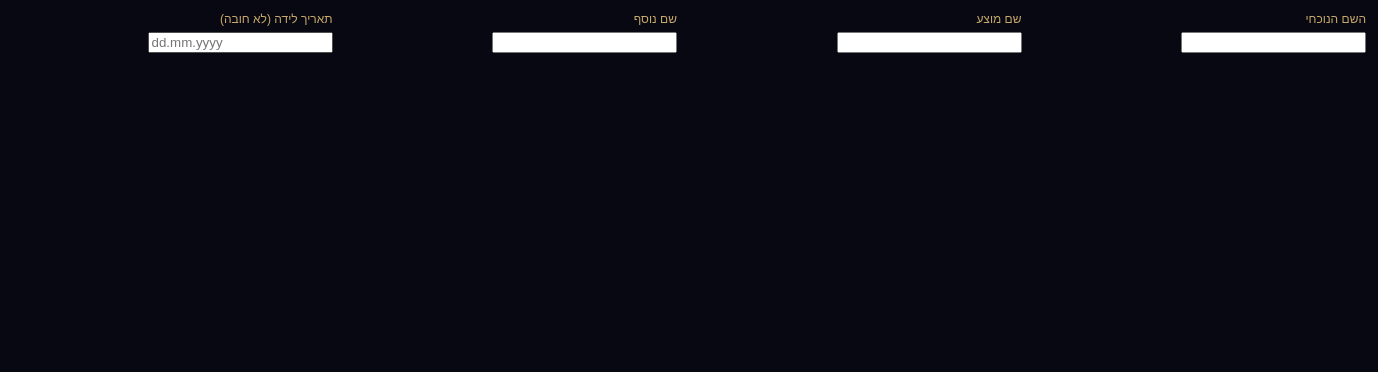
it: name comparison › shows each spelling's numbers side by side and marks what differs from the first
The image size is (1378, 372).
Type "שני כהן" into the field labelled "השם הנוכחי". click: [1274, 42]
box: top-left (1181, 32), bottom-right (1366, 53)
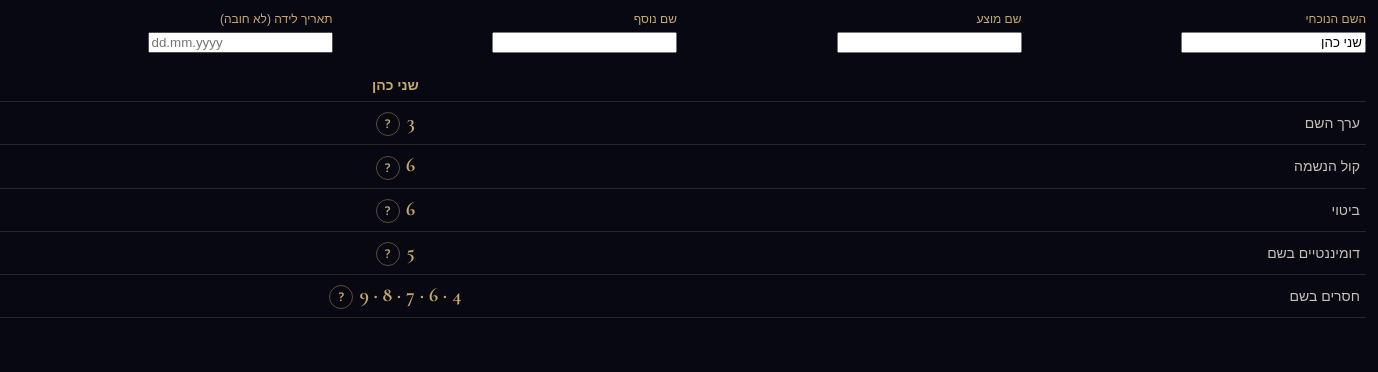
Type "שני כהן אזולאי" into the field labelled "שם מוצע". click: [929, 42]
box: top-left (836, 32), bottom-right (1022, 53)
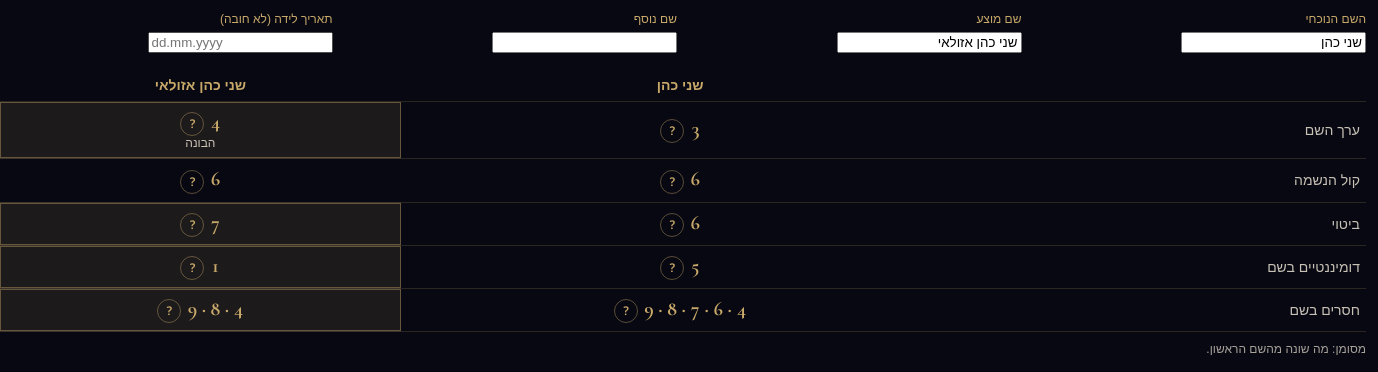
expect the text with class "calc-value" reads "3": met, box top-left (690, 117), bottom-right (700, 141)
expect the text with class "calc-value" reads "4": met, box top-left (210, 110), bottom-right (220, 134)
